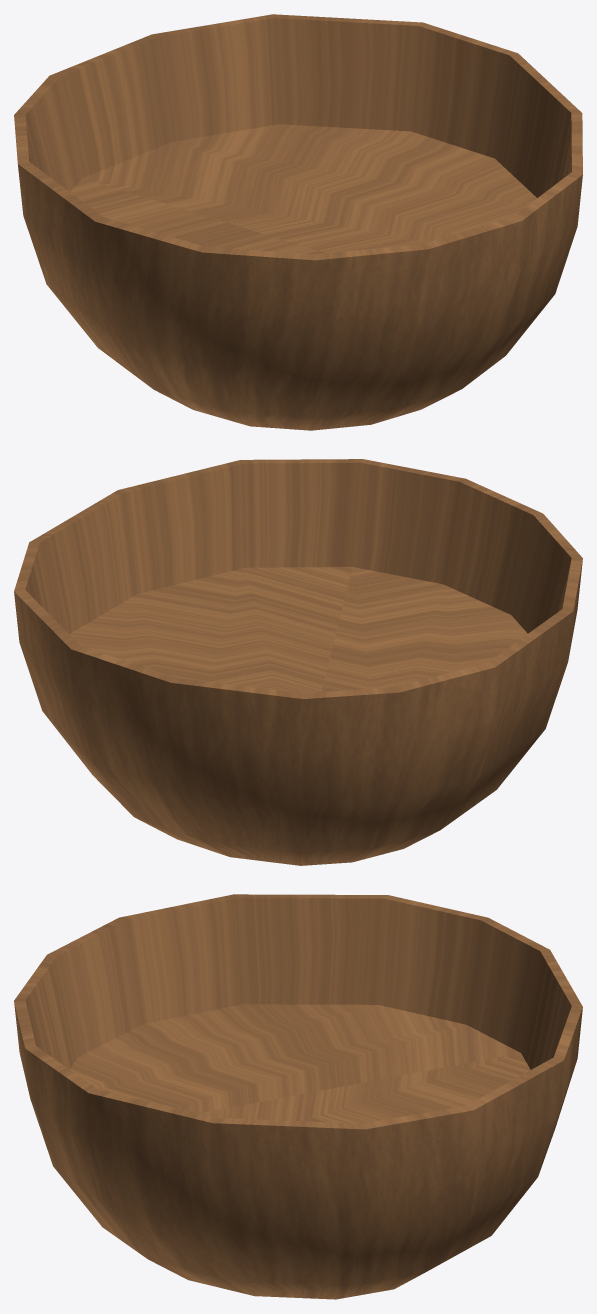
The model's file is Plato_V4.fbx.
The picture shows the model from 3 angles, top to bottom: view 1: azimuth 30°, elevation 25°; view 2: azimuth 150°, elevation 25°; view 3: azimuth 270°, elevation 25°; orthographic projection. The views are drawn at different scales.
Parts seen in each view (by area): view 1: Platos_V4; view 2: Platos_V4; view 3: Platos_V4.
Part boxes in pixels (bbox=[...]): Platos_V4: bbox=[14, 14, 582, 430]; Platos_V4: bbox=[14, 459, 582, 865]; Platos_V4: bbox=[14, 894, 582, 1299].
Bounding box in the file's own units: 95.08 × 47.39 × 97.27.
1 material, 1 textured.
